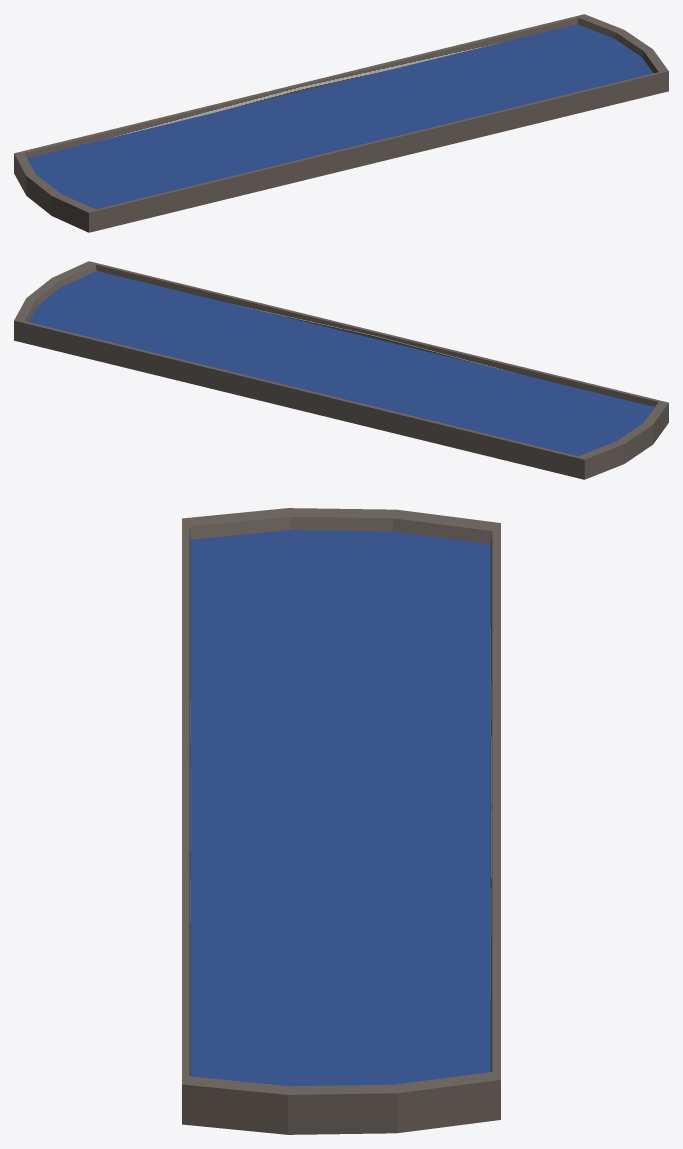
Rendered from Median_01.fbx.
The picture shows the model from 3 angles, top to bottom: view 1: azimuth 30°, elevation 25°; view 2: azimuth 150°, elevation 25°; view 3: azimuth 270°, elevation 25°; orthographic projection. The views are drawn at different scales.
Visible parts, largest first — view 1: Median_01; view 2: Median_01; view 3: Median_01.
Boxes of the visible parts, bbox=[...] form: Median_01: bbox=[14, 14, 668, 232]; Median_01: bbox=[14, 261, 668, 479]; Median_01: bbox=[182, 508, 500, 1134].
Size of the model in its own units: 6471 by 206 by 1486.
